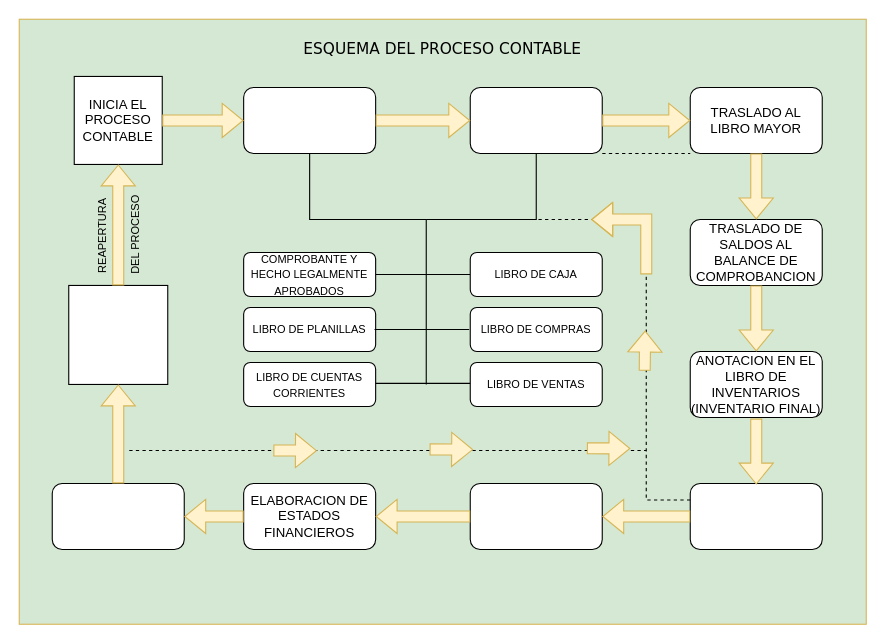
This 886x644 diagram has some shape labels left out. The shapes that lost their labels are listed below. From the top down, each one's box as (x1, y1, x2, y2) in pixels, then its label:
(243, 86, 376, 153): ANOTACIONES EN EL LIBRO DE INVENTARIOS
(469, 86, 602, 153): ANOTACIONES LIBRO EN LIBRO DIARIO
(68, 284, 168, 384): FINALIZA EL PERIODO CONTABLE
(51, 482, 184, 549): ELABORACION DE PARTIDAS DE CIERRE EN EL LIBRO DIARIO
(469, 482, 602, 549): ELABORACION DE HOJA DE TRABAJO
(689, 482, 822, 549): ELABORACION DE PARTIDAS DE AJUSTE EN LIBRO DIARIO
